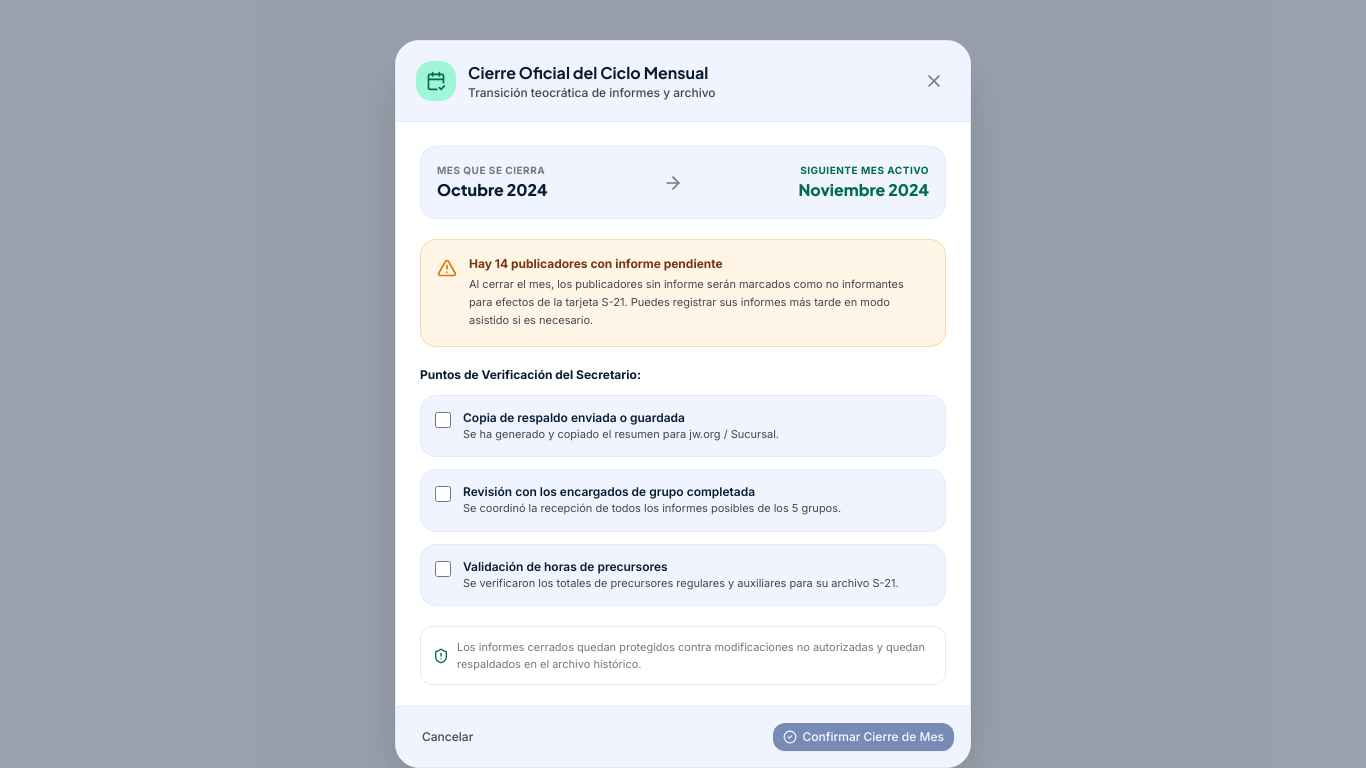
Test: MonthClosingModal organism › mantiene deshabilitado el botón de confirmar hasta que se marquen los 3 puntos de verificación
This screenshot has width=1366, height=768.
expect the button "Confirmar Cierre de Mes" is disabled: met, box [772, 723, 954, 751]
# Marcar 1
Click the 1st checkbox: (443, 420) [435, 412, 451, 428]
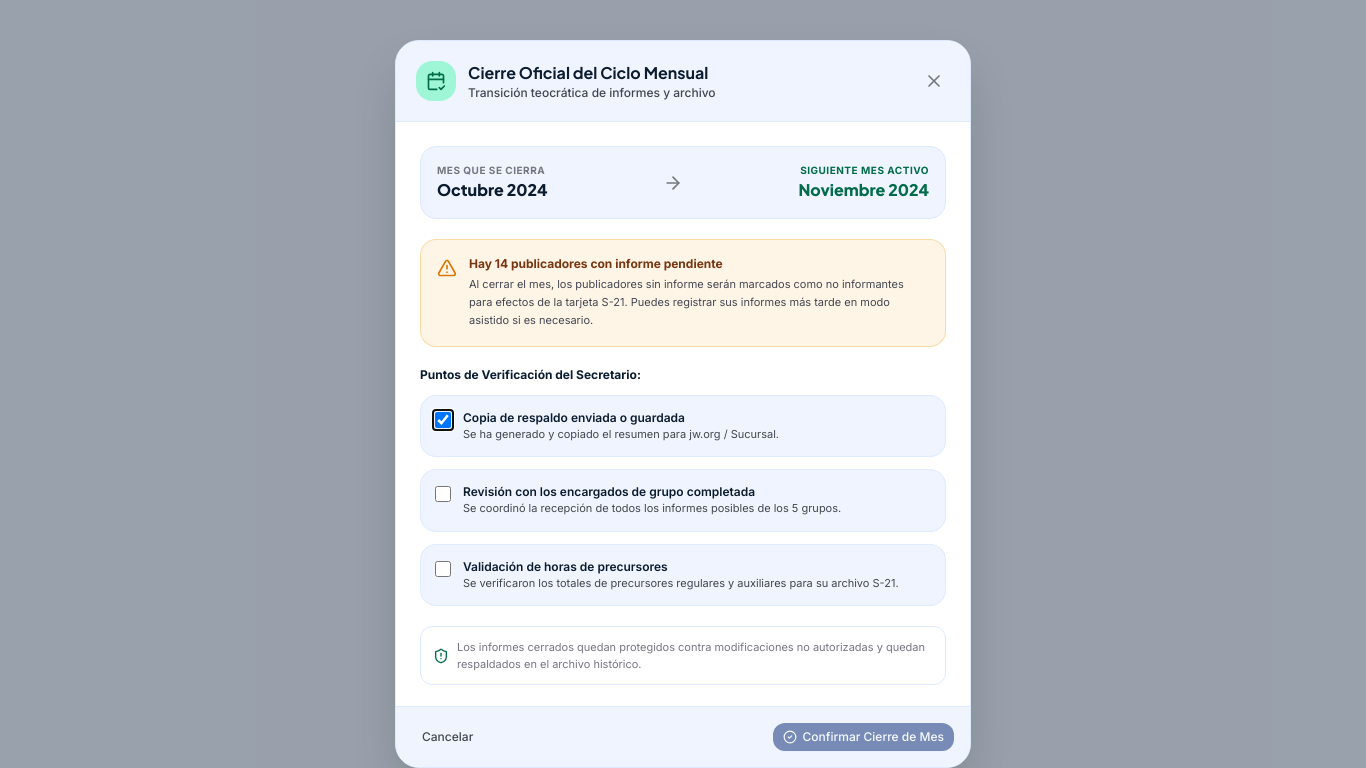
expect the button "Confirmar Cierre de Mes" is disabled: met, box [772, 723, 954, 751]
# Marcar 2
Click the 2nd checkbox: (443, 494) [435, 486, 451, 502]
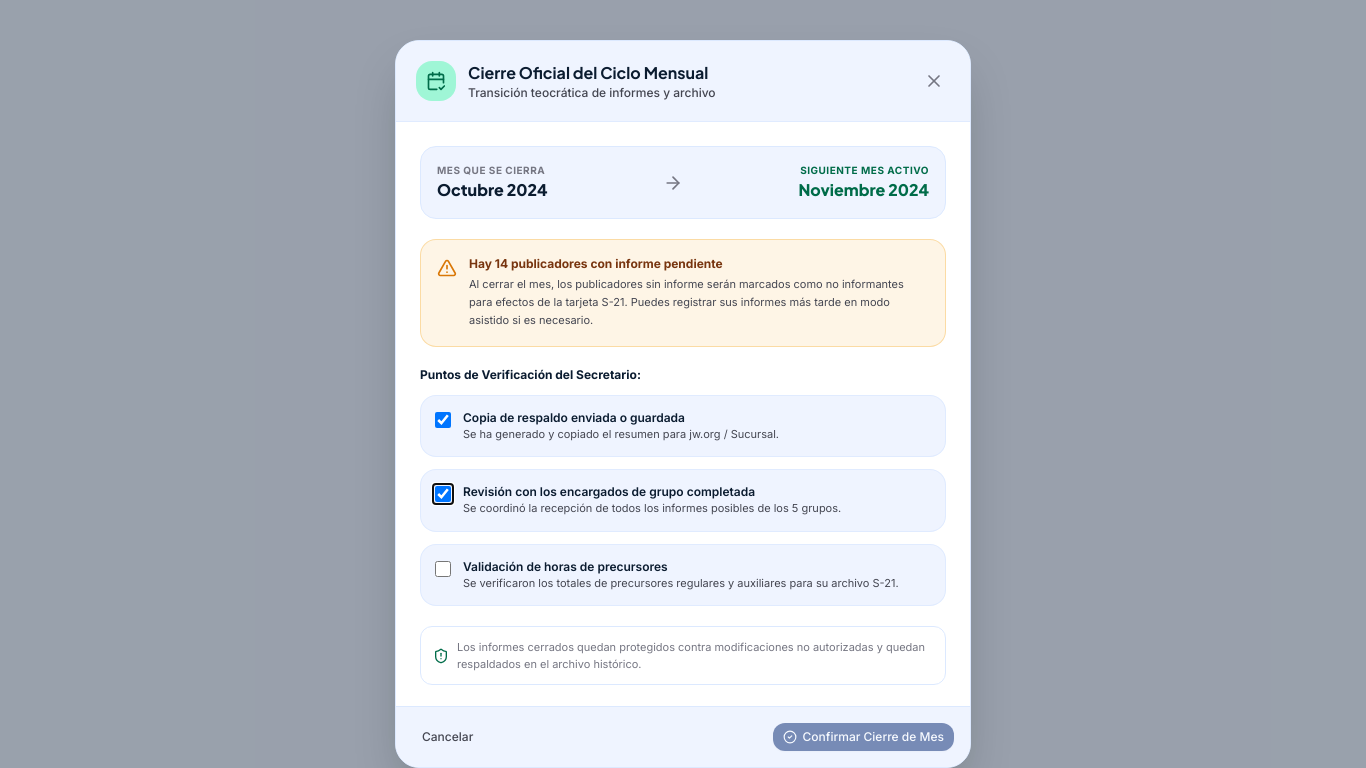
expect the button "Confirmar Cierre de Mes" is disabled: met, box [772, 723, 954, 751]
# Marcar 3
Click the 3rd checkbox: (443, 569) [435, 561, 451, 577]
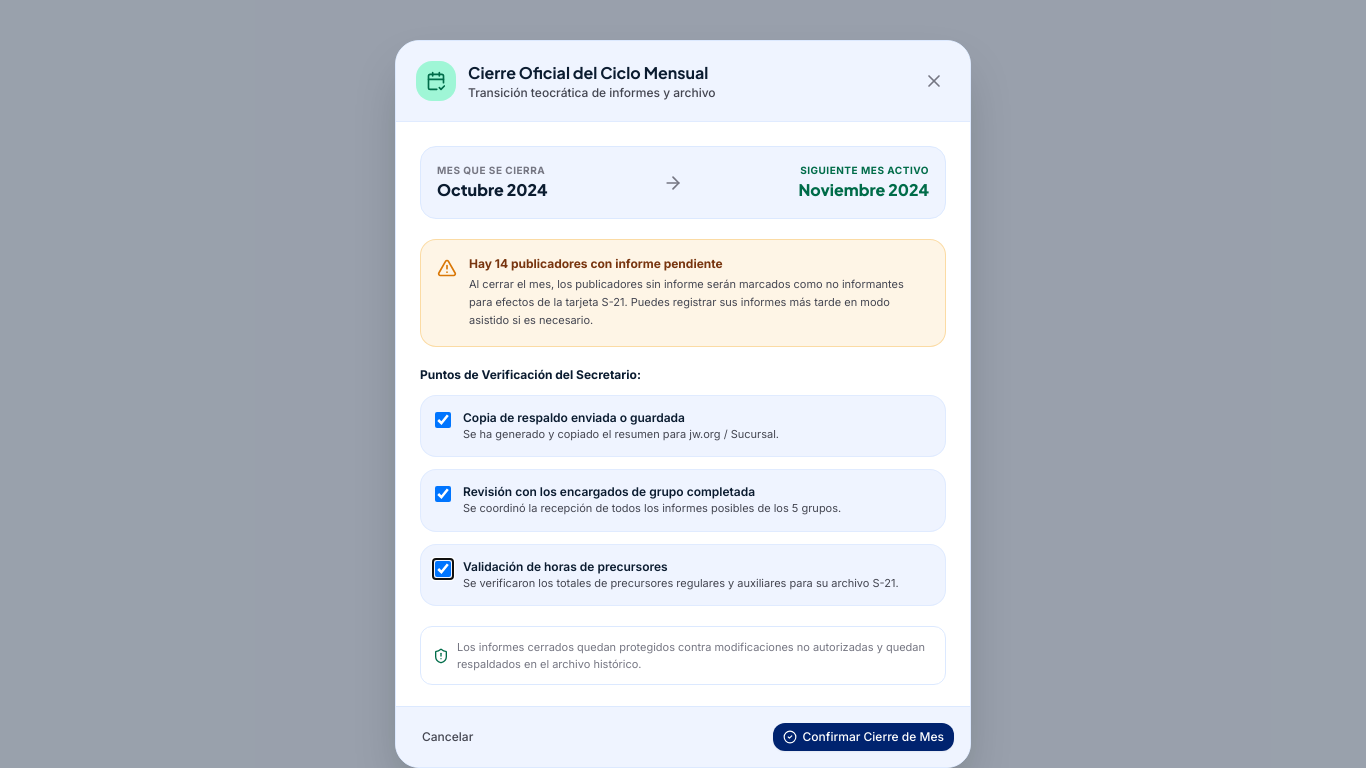
expect the button "Confirmar Cierre de Mes" is enabled: met
Click the button "Confirmar Cierre de Mes": (863, 737) [772, 723, 954, 751]
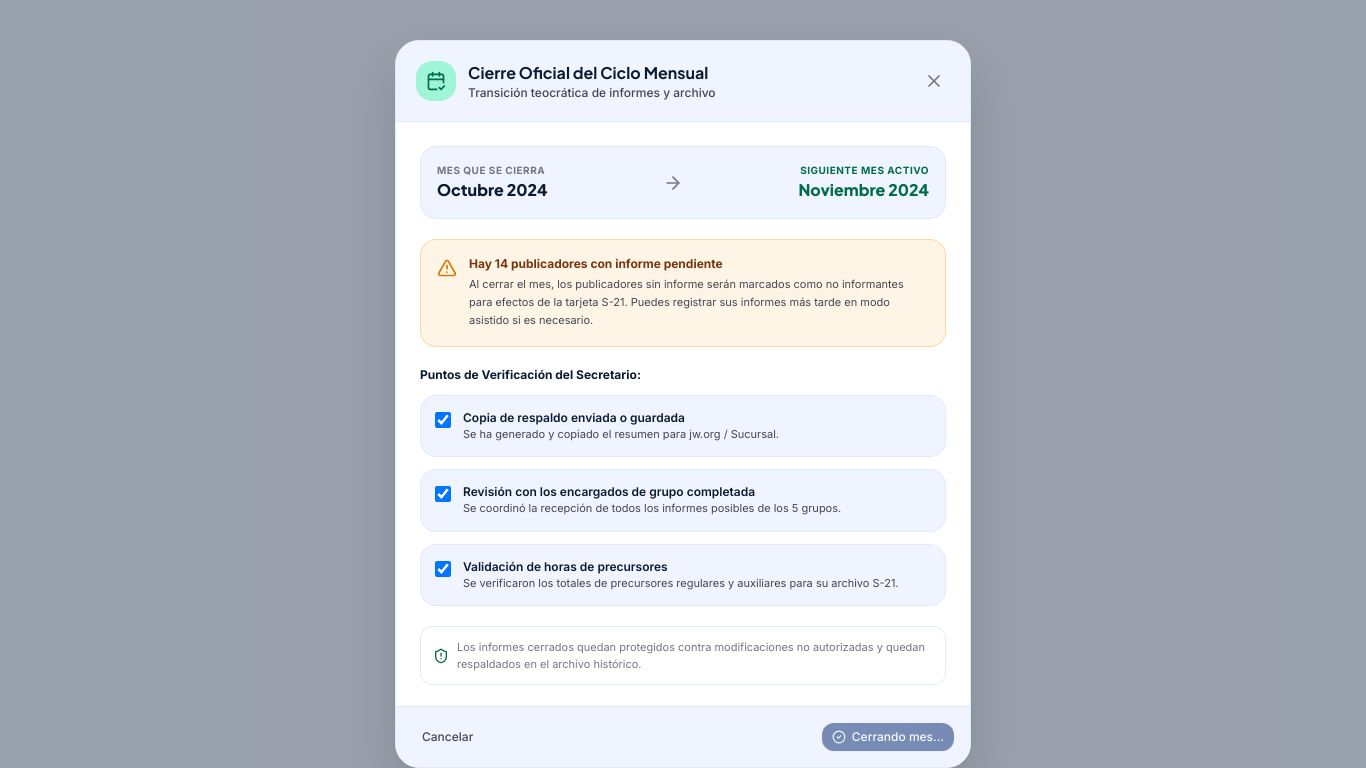
expect the button "Cerrando mes..." is shown: met, box [822, 723, 954, 751]
